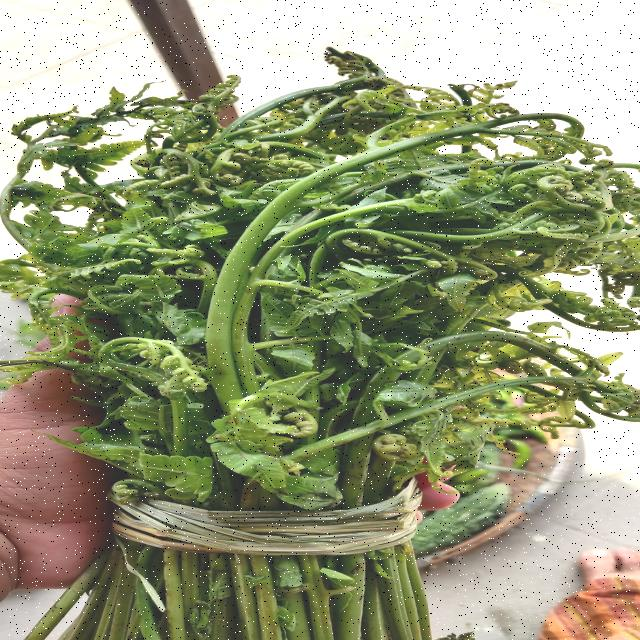Fiddlehead Ferns: (17, 47, 640, 592)
